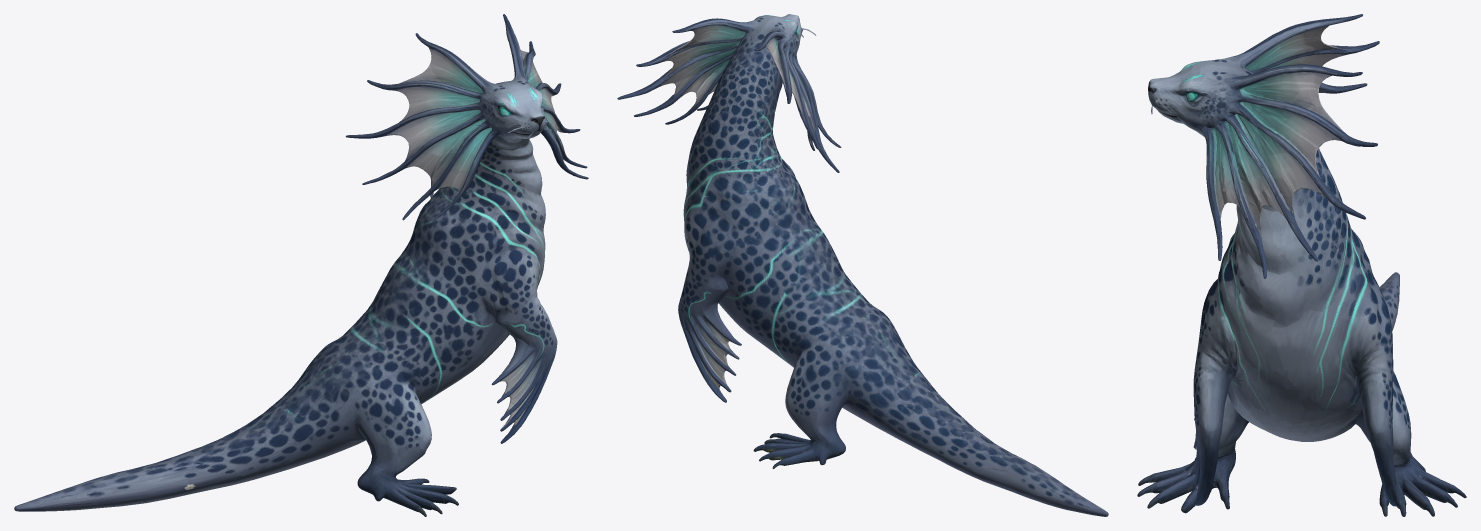
The model's file is sirenseal_a.glb.
3 views of the same model, side by side, from view 1: azimuth 30°, elevation 25°; view 2: azimuth 150°, elevation 25°; view 3: azimuth 270°, elevation 25° (orthographic). The views are drawn at different scales.
Parts seen in each view (by area): view 1: Mesh_0; view 2: Mesh_0; view 3: Mesh_0.
Part boxes in pixels (x1,y1,x2,y2): Mesh_0: (14,14,588,516); Mesh_0: (617,14,1108,516); Mesh_0: (1137,14,1466,516).
Bounding box in the file's own units: 1.9 × 1.37 × 0.7828.
1 material, 1 textured.
